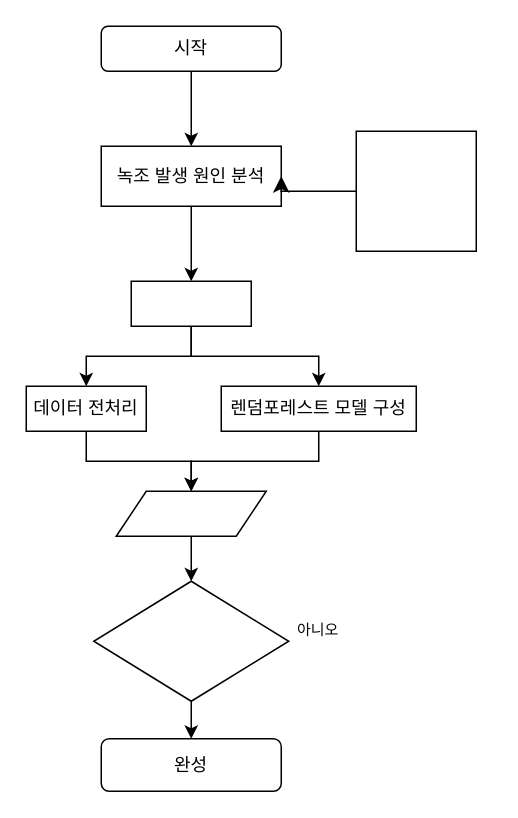
Image size: 518x818. Some labels were removed from this diagram. Here are the shapes that lost their labels. From the top down, the centre of each, then its label:
At point (190, 303): "데이터 수집".
At point (190, 513): "회귀 학습".
At point (190, 640): "RMSE 값이 이하인가?".
